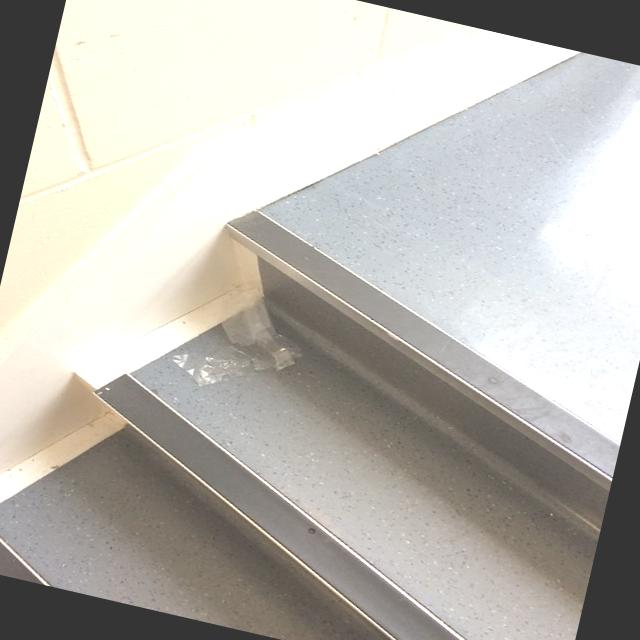Recycle: (177, 264, 327, 414)
